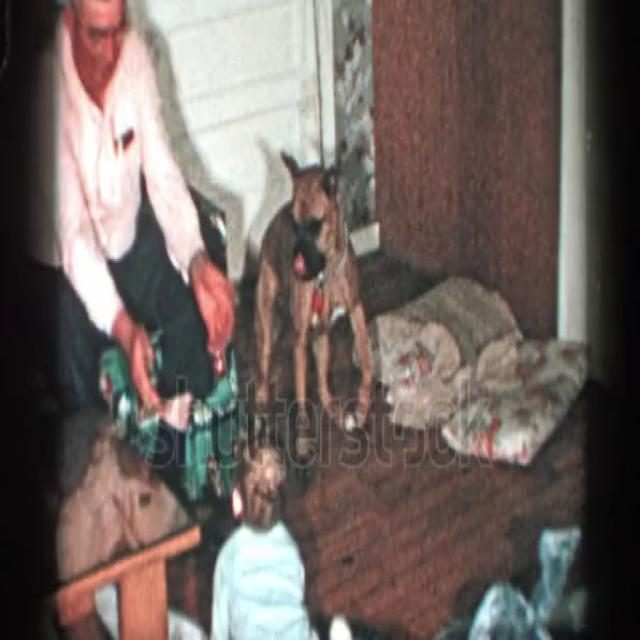normal_animals: (248, 144, 378, 467)
